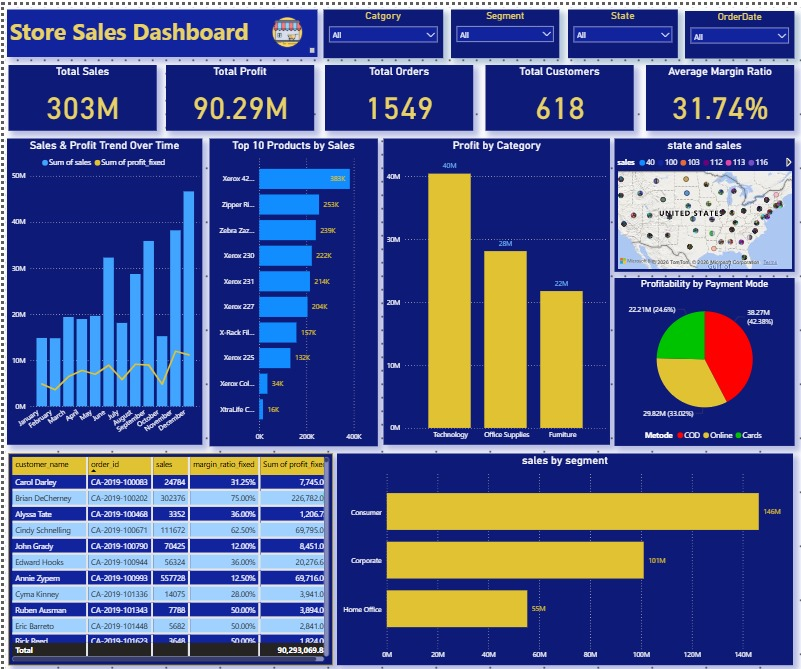

Layout of this report page (visuals, bound fields, positions):
{"tool":"powerbi","page":{"name":"Page 1","canvas":[1400,1170],"ordinal":0},"visuals":[{"type":"slicer","title":"OrderDate","fields":{"Values":["Sheet1.order_date.Variation.Date Hierarchy.Year","Sheet1.order_date.Variation.Date Hierarchy.Month","Sheet1.order_date.Variation.Date Hierarchy.Day"]},"box":[1193.7,10.4,192,83.5],"z":0},{"type":"slicer","title":"State","fields":{"Values":["Sheet1.state"]},"box":[990,7.5,192.5,85],"z":1000},{"type":"slicer","title":"Segment","fields":{"Values":["Sheet1.segment"]},"box":[785,7.5,190,85],"z":2000},{"type":"slicer","title":"Catgory","fields":{"Values":["Sheet1.category"]},"box":[560,7.5,210,85],"z":3000},{"type":"textbox","title":"Store Sales Dashboard","box":[4.4,8.9,544.4,83.3],"z":4000},{"type":"card","title":"Total Sales","fields":{"Values":["Sum(Sheet1.sales)"]},"box":[7.1,104.6,260,115],"z":5000},{"type":"card","title":"Total Profit","fields":{"Values":["Sum(Sheet1.profit_fixed)"]},"box":[284.3,104.9,260,115.6],"z":6000},{"type":"card","title":"Total Orders","fields":{"Values":["CountNonNull(Sheet1.order_id)"]},"box":[564.3,104.9,260,115.6],"z":7000},{"type":"card","title":"Total Customers","fields":{"Values":["Count(Sheet1.customer_name)"]},"box":[844.3,104.9,260,115.6],"z":8000},{"type":"card","title":"Average Margin Ratio","fields":{"Values":["Avg(Sheet1.margin_ratio_fixed)"]},"box":[1126.5,104.9,260,115.6],"z":9000},{"type":"barChart","title":"sales by segment","fields":{"Category":["Sheet1.segment"],"Y":["Sum(Sheet1.sales)"]},"box":[584.2,786.8,800,371.1],"z":10000},{"type":"columnChart","title":"Profit by Category","fields":{"Category":["Sheet1.category"],"Y":["Sum(Sheet1.profit_fixed)"]},"box":[666.9,234,397.5,537.5],"z":11000},{"type":"lineStackedColumnComboChart","title":"Sales & Profit Trend Over Time","fields":{"Category":["Sheet1.order_date.Variation.Date Hierarchy.Month"],"Y":["Sum(Sheet1.sales)"],"Y2":["Sum(Sheet1.profit_fixed)"]},"box":[4.4,234,342.5,537.5],"z":12000},{"type":"barChart","title":"Top 10 Products by Sales","fields":{"Category":["Sheet1.product_name"],"Y":["Sum(Sheet1.sales)"]},"box":[359.4,234,295,540],"z":13000},{"type":"map","fields":{"Series":["Sheet1.sales"],"Category":["Sheet1.state"]},"box":[1071.1,234.2,315.8,234.2],"z":14000},{"type":"tableEx","fields":{"Values":["Sheet1.customer_name","Sheet1.order_id","Sheet1.sales","Sheet1.margin_ratio_fixed","Sheet1.profit_fixed"]},"box":[7.9,786.8,568.4,371.1],"z":15000},{"type":"pieChart","title":"Profitability by Payment Mode","fields":{"Category":["Sheet1.payment_mode"],"Y":["Sum(Sheet1.profit)"]},"box":[1071.1,478.9,315.8,294.7],"z":16000},{"type":"image","box":[444.7,0,105.3,94.7],"z":16001}]}

Visuals, with their boxes in screenshot pixels (x1, y1, x2, y2), scaled from the page's 1400x1170 canvas onto the 801x669 screenshot:
"OrderDate" slicer: [left=683, top=6, right=793, bottom=54]
"State" slicer: [left=566, top=4, right=677, bottom=53]
"Segment" slicer: [left=449, top=4, right=558, bottom=53]
"Catgory" slicer: [left=320, top=4, right=441, bottom=53]
"Store Sales Dashboard" textbox: [left=3, top=5, right=314, bottom=53]
"Total Sales" card: [left=4, top=60, right=153, bottom=126]
"Total Profit" card: [left=163, top=60, right=311, bottom=126]
"Total Orders" card: [left=323, top=60, right=472, bottom=126]
"Total Customers" card: [left=483, top=60, right=632, bottom=126]
"Average Margin Ratio" card: [left=645, top=60, right=793, bottom=126]
"sales by segment" barChart: [left=334, top=450, right=792, bottom=662]
"Profit by Category" columnChart: [left=382, top=134, right=609, bottom=441]
"Sales & Profit Trend Over Time" lineStackedColumnComboChart: [left=3, top=134, right=198, bottom=441]
"Top 10 Products by Sales" barChart: [left=206, top=134, right=374, bottom=443]
map - Sheet1.sales x Sheet1.state: [left=613, top=134, right=794, bottom=268]
tableEx - Sheet1.customer_name x Sheet1.order_id: [left=5, top=450, right=330, bottom=662]
"Profitability by Payment Mode" pieChart: [left=613, top=274, right=794, bottom=442]
image: [left=254, top=0, right=315, bottom=54]
